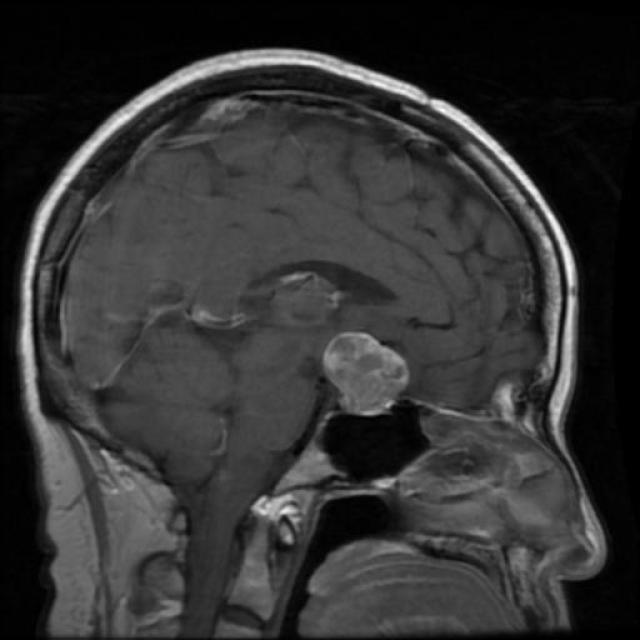pituitary: (313, 321, 416, 426)
